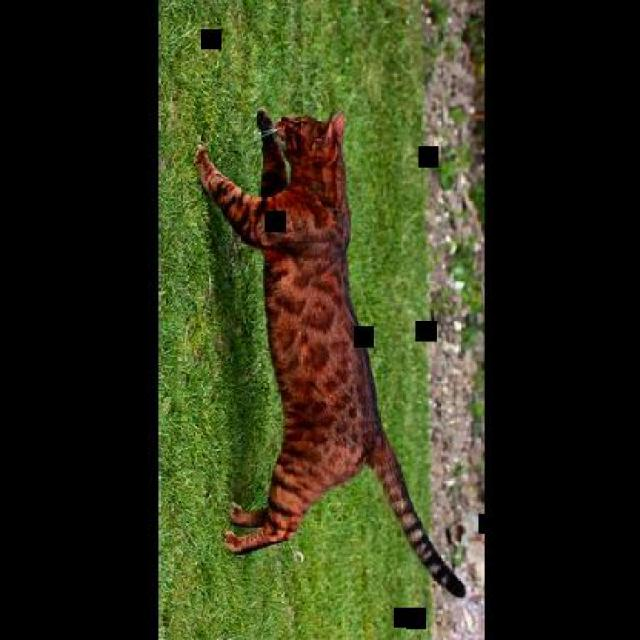unauthorized: (191, 106, 466, 599)
